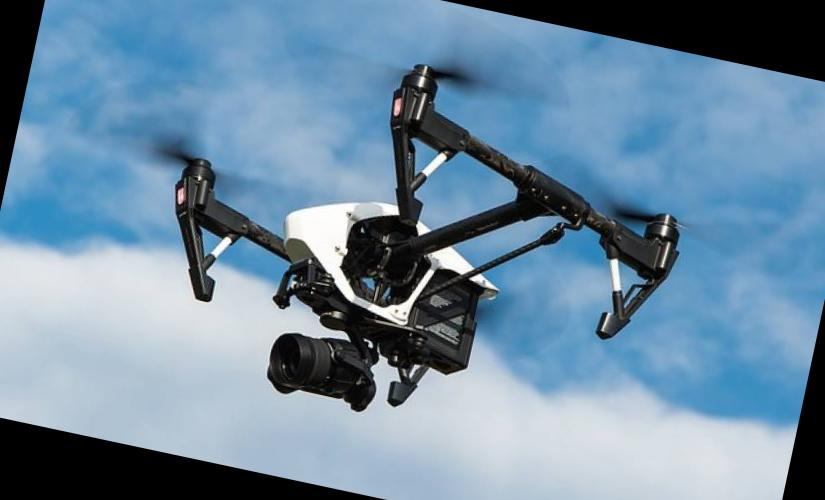drone: (95, 0, 725, 448)
